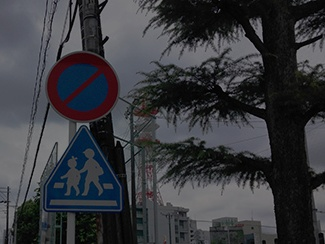Prohibition_sign: (48, 48, 138, 134)
